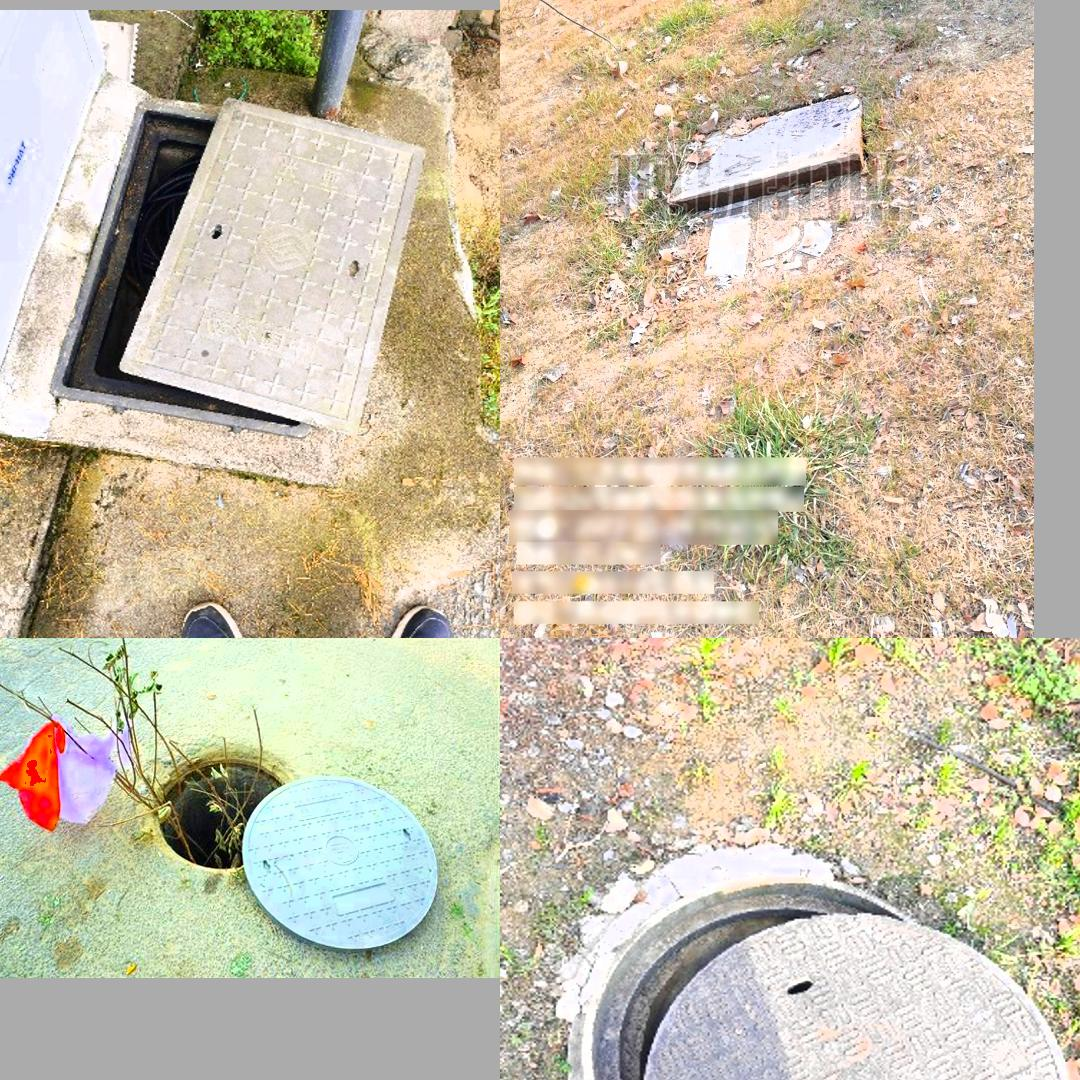uncovered: (49, 94, 425, 445), (575, 871, 1073, 1080), (121, 738, 442, 949), (653, 81, 903, 214)
